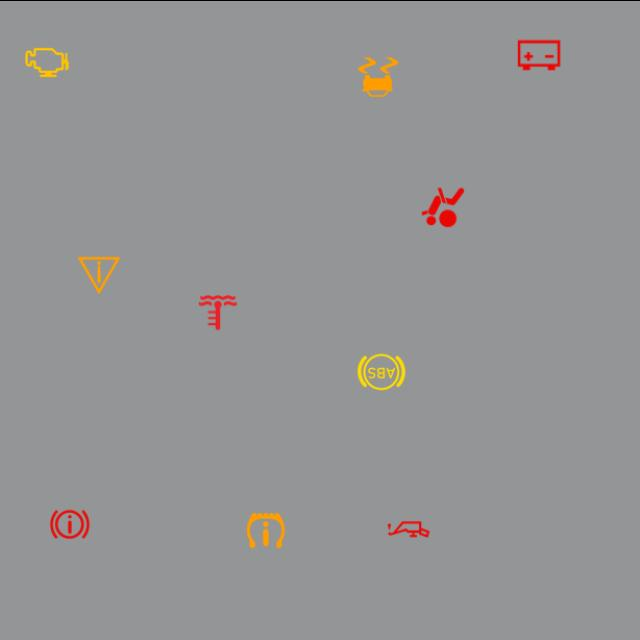Anti Lock Braking System: (356, 345, 408, 397)
Braking System Issue: (44, 498, 96, 550)
Charging System Issue: (513, 28, 565, 80)
Check Engine: (21, 36, 73, 88)
Electronic Stability Problem -ESP-: (352, 50, 404, 102)
Engine Overheating Warning Light: (192, 286, 244, 338)
Low Engine Oil Warning Light: (382, 502, 434, 554)
Low Tire Pressure Warning Light: (240, 504, 292, 556)
Master warning light: (73, 248, 125, 300)
SRS-Airbag: (417, 180, 469, 232)
